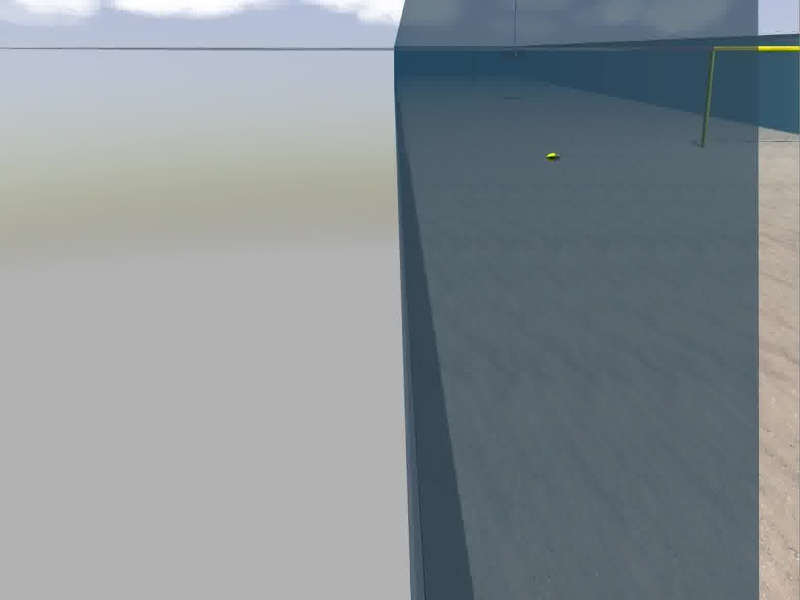gate: (700, 45, 800, 147)
